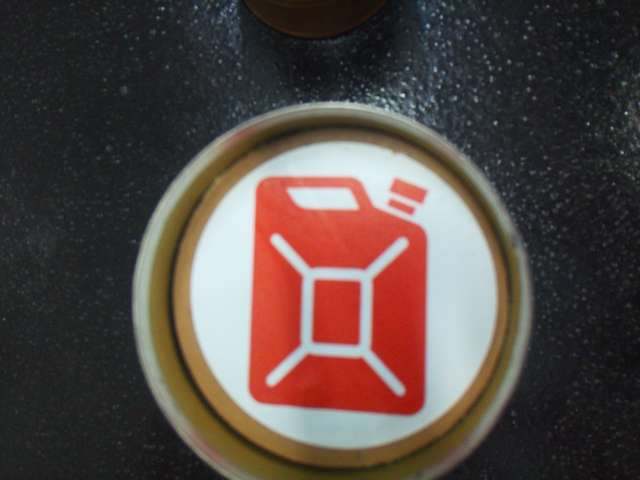gasoline: (228, 152, 446, 431)
